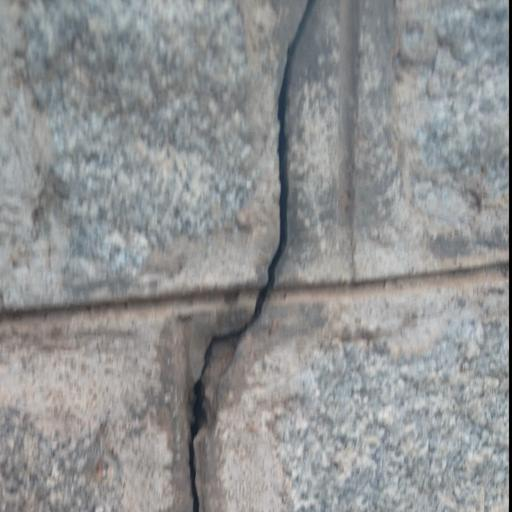major_crack: (174, 0, 322, 512)
